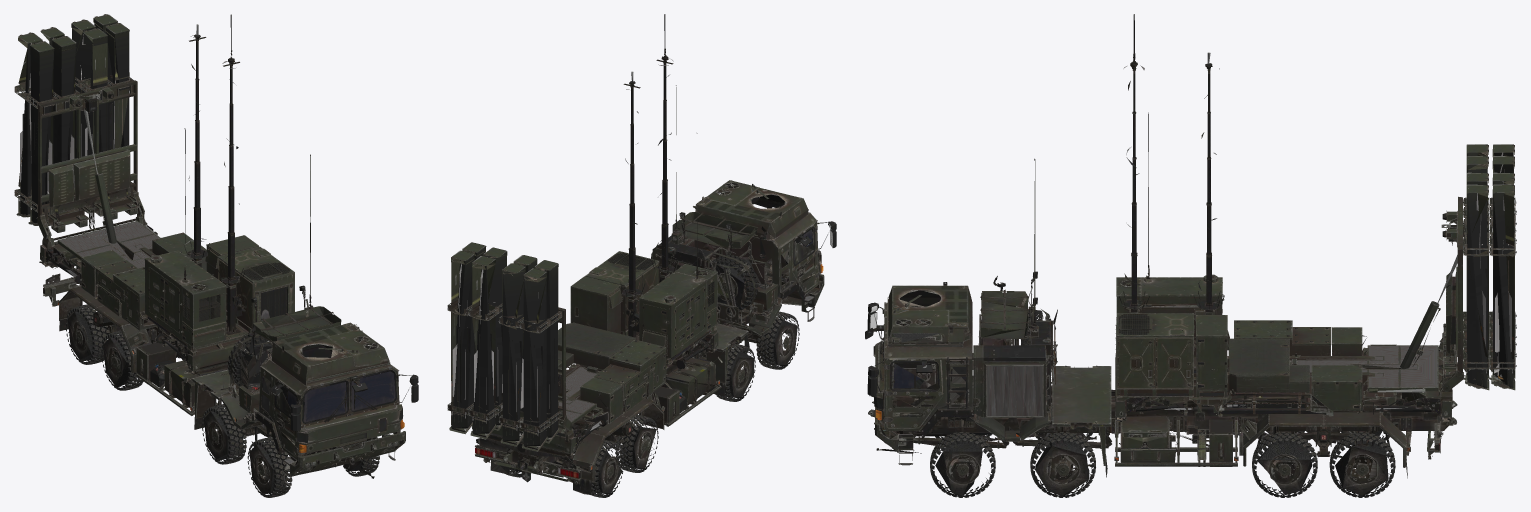
The model's file is iris.glb.
The picture shows the model from 3 angles, left to right: view 1: azimuth 30°, elevation 25°; view 2: azimuth 150°, elevation 25°; view 3: azimuth 270°, elevation 25°; orthographic projection. The views are drawn at different scales.
Parts seen in each view (by area): view 1: 702363b5-2c8b-4ee4-9c86-857f717c3ba3, ed108be7-97e9-40aa-8982-872941bbc623, b762ef0b-3082-4ba3-a0ac-3cb87b123725, 201c334a-37df-4174-b14f-d8a687a00091, 9ed3233c-13a9-49bd-9d9e-d8ae22872b82, ec919356-dad2-4333-a407-cf97a88d6470, 2dda8c89-cf91-45e2-b5e6-9e11e4823d81; view 2: 702363b5-2c8b-4ee4-9c86-857f717c3ba3, b762ef0b-3082-4ba3-a0ac-3cb87b123725, ed108be7-97e9-40aa-8982-872941bbc623, 201c334a-37df-4174-b14f-d8a687a00091, ec919356-dad2-4333-a407-cf97a88d6470, 2dda8c89-cf91-45e2-b5e6-9e11e4823d81; view 3: 702363b5-2c8b-4ee4-9c86-857f717c3ba3, ed108be7-97e9-40aa-8982-872941bbc623, b762ef0b-3082-4ba3-a0ac-3cb87b123725, 201c334a-37df-4174-b14f-d8a687a00091, ec919356-dad2-4333-a407-cf97a88d6470, 95f7297d-f6fd-4405-8992-925c82f6c118, 80f6d9d1-9e67-4ecb-89a9-99ff2127f6a5.
Boxes of the visible parts, left/top/right/bottom form: 702363b5-2c8b-4ee4-9c86-857f717c3ba3: left=39, top=261, right=418, bottom=497; ed108be7-97e9-40aa-8982-872941bbc623: left=40, top=110, right=294, bottom=371; b762ef0b-3082-4ba3-a0ac-3cb87b123725: left=14, top=14, right=133, bottom=226; 201c334a-37df-4174-b14f-d8a687a00091: left=36, top=14, right=240, bottom=278; 9ed3233c-13a9-49bd-9d9e-d8ae22872b82: left=303, top=371, right=395, bottom=422; ec919356-dad2-4333-a407-cf97a88d6470: left=60, top=221, right=158, bottom=268; 2dda8c89-cf91-45e2-b5e6-9e11e4823d81: left=261, top=344, right=395, bottom=423; 702363b5-2c8b-4ee4-9c86-857f717c3ba3: left=471, top=180, right=836, bottom=497; b762ef0b-3082-4ba3-a0ac-3cb87b123725: left=447, top=242, right=562, bottom=451; ed108be7-97e9-40aa-8982-872941bbc623: left=472, top=251, right=718, bottom=453; 201c334a-37df-4174-b14f-d8a687a00091: left=558, top=14, right=697, bottom=430; ec919356-dad2-4333-a407-cf97a88d6470: left=559, top=367, right=596, bottom=424; 2dda8c89-cf91-45e2-b5e6-9e11e4823d81: left=751, top=194, right=788, bottom=284; 702363b5-2c8b-4ee4-9c86-857f717c3ba3: left=865, top=271, right=1457, bottom=497; ed108be7-97e9-40aa-8982-872941bbc623: left=1115, top=241, right=1464, bottom=417; b762ef0b-3082-4ba3-a0ac-3cb87b123725: left=1463, top=144, right=1516, bottom=390; 201c334a-37df-4174-b14f-d8a687a00091: left=1123, top=14, right=1466, bottom=392; ec919356-dad2-4333-a407-cf97a88d6470: left=1291, top=346, right=1437, bottom=387; 95f7297d-f6fd-4405-8992-925c82f6c118: left=987, top=366, right=1042, bottom=415; 80f6d9d1-9e67-4ecb-89a9-99ff2127f6a5: left=913, top=158, right=1389, bottom=470.
Size of the model in its own units: 3.22 by 9 by 11.68.
Materials: 11 (11 with a texture image).
